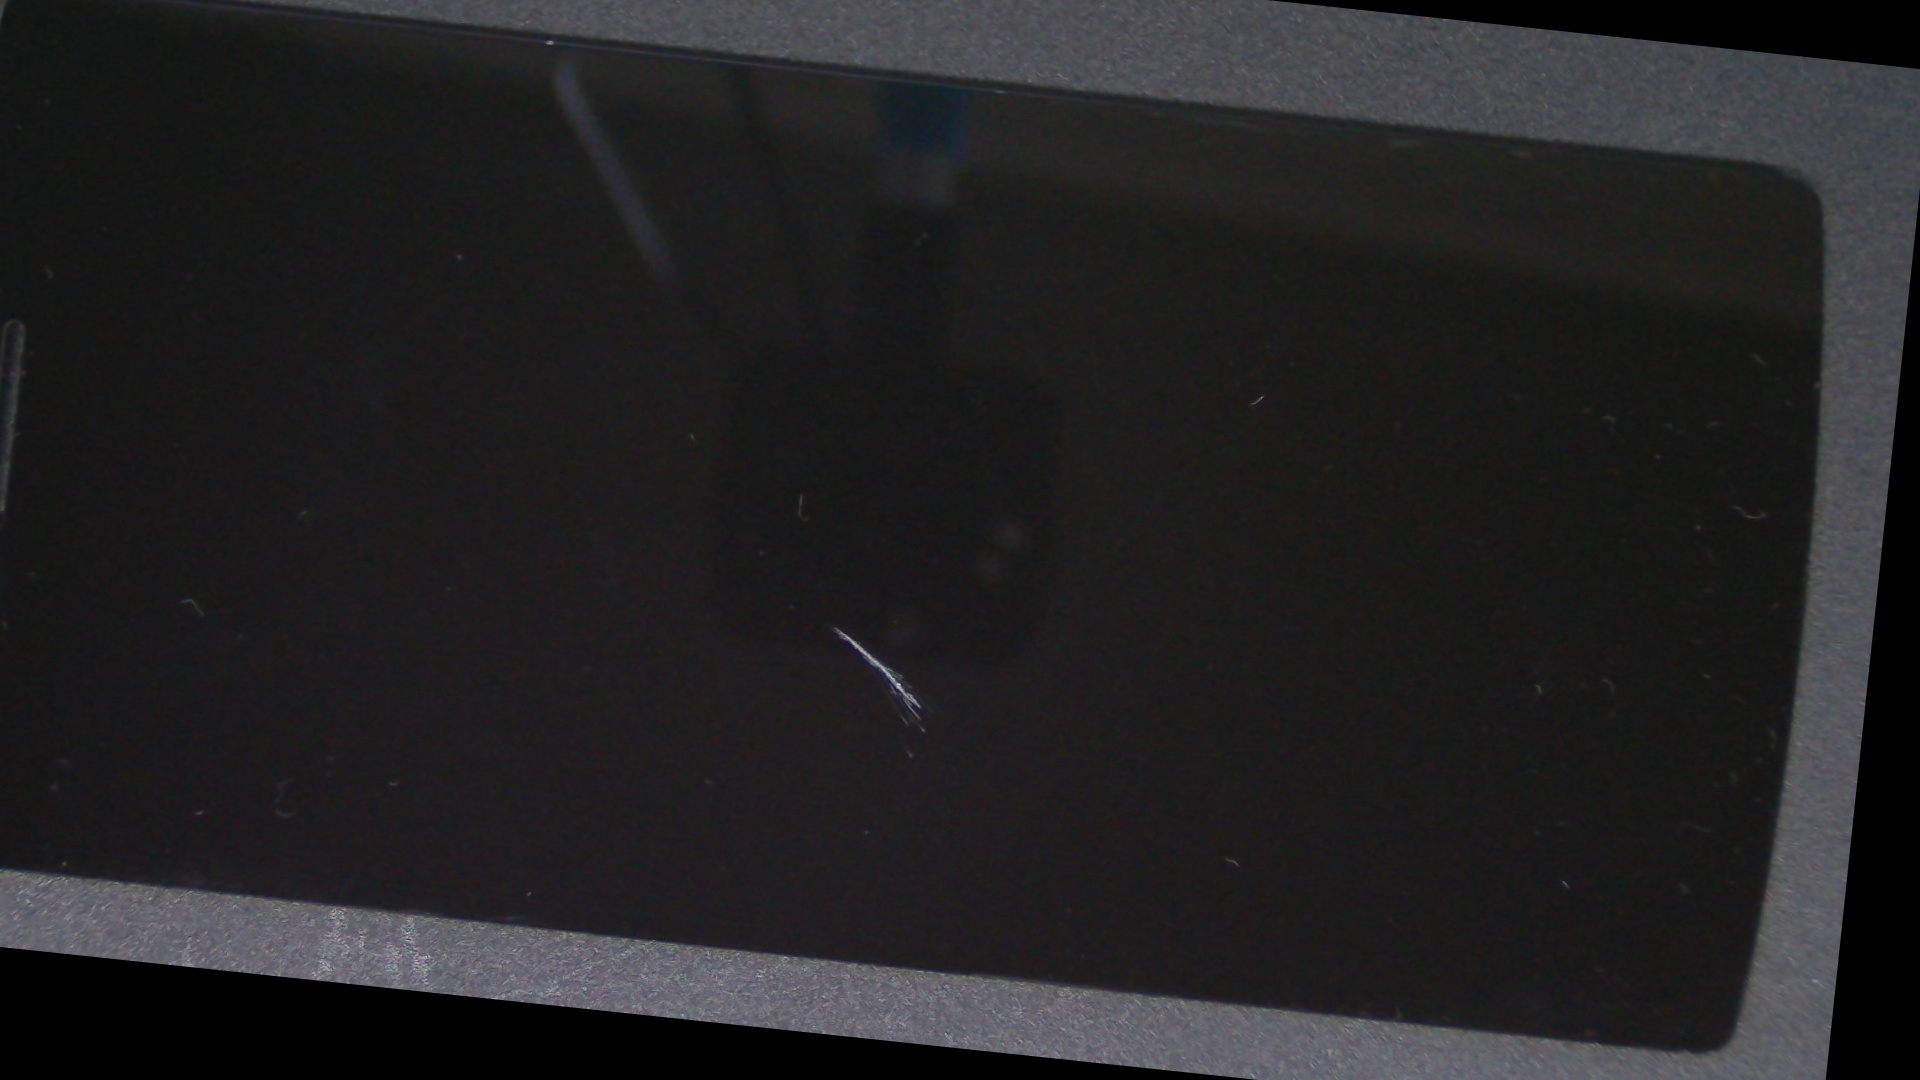oil: (313, 241, 1356, 1010)
